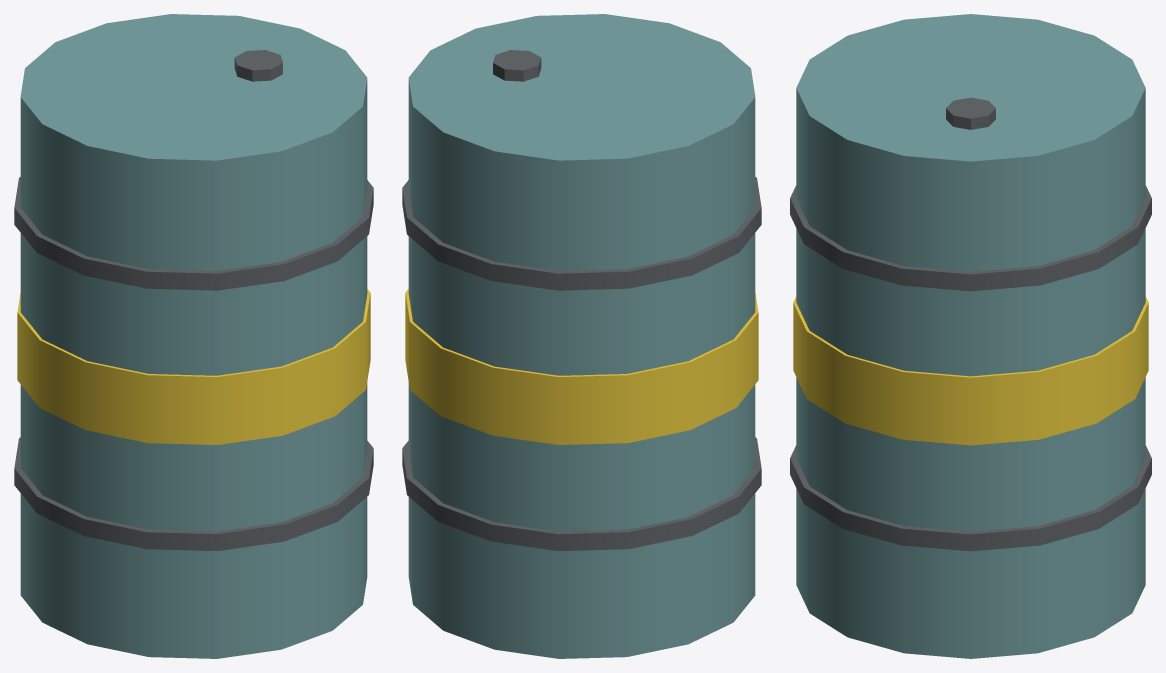
File: barrel.glb
The picture shows the model from 3 angles, left to right: view 1: azimuth 30°, elevation 25°; view 2: azimuth 150°, elevation 25°; view 3: azimuth 270°, elevation 25°; orthographic projection.
Parts seen in each view (by area): view 1: barrel; view 2: barrel; view 3: barrel.
Boxes of the visible parts, x1=… form: barrel: x1=14, y1=14, x2=373, y2=658; barrel: x1=402, y1=14, x2=761, y2=658; barrel: x1=790, y1=14, x2=1151, y2=658.
Bounding box in the file's own units: 0.58 × 0.9 × 0.58.
